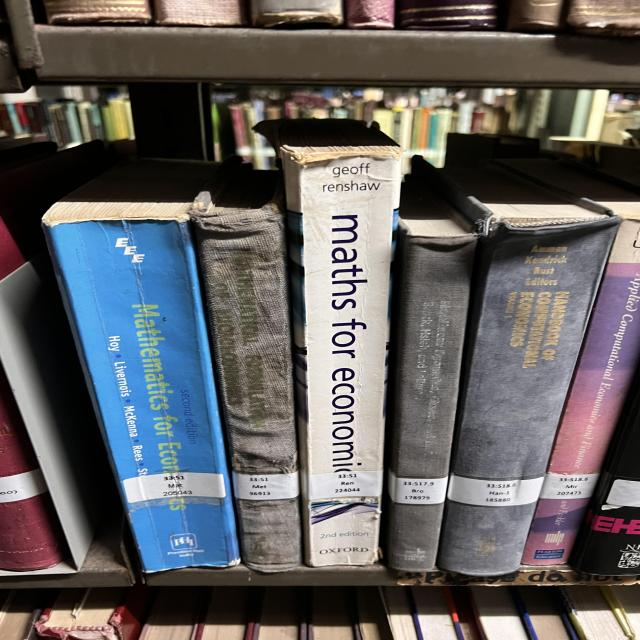Book: (413, 160, 620, 576), (42, 160, 240, 572), (280, 145, 402, 566), (190, 165, 302, 572), (387, 181, 477, 571)
Label: (122, 472, 225, 502), (447, 475, 543, 506), (308, 471, 383, 500), (388, 471, 448, 505), (233, 471, 298, 500), (540, 474, 598, 499)
